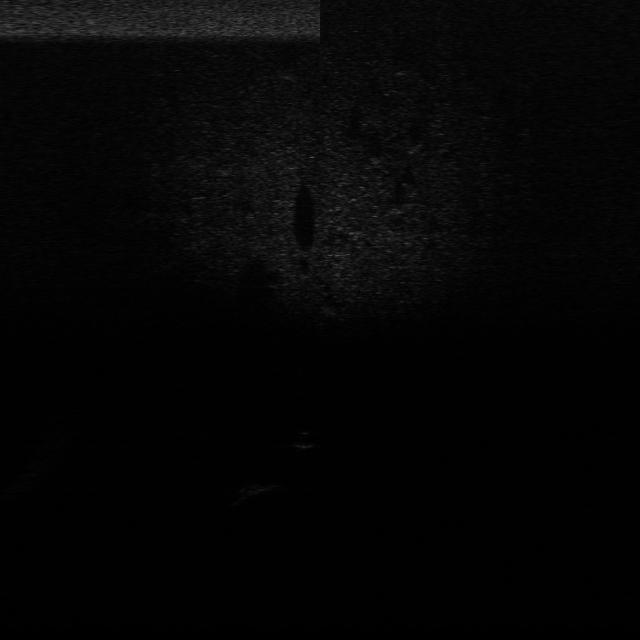ball: (290, 425, 324, 450)
square cage: (232, 480, 284, 501)
